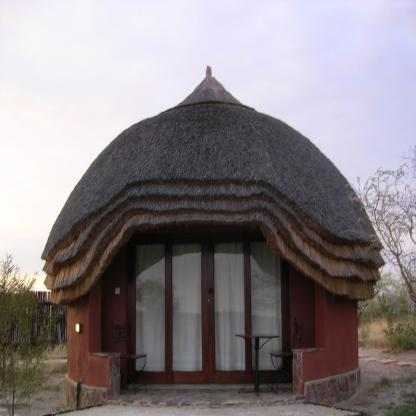Building Outline: (41, 64, 385, 410)
Dont: (112, 321, 148, 396), (235, 335, 280, 394), (270, 317, 303, 394)
Door: (128, 235, 291, 384)
Door Hole: (101, 228, 315, 396)
Facade: (67, 200, 335, 405)
Ground Floor: (67, 200, 335, 405)
Roof: (41, 64, 385, 306)
